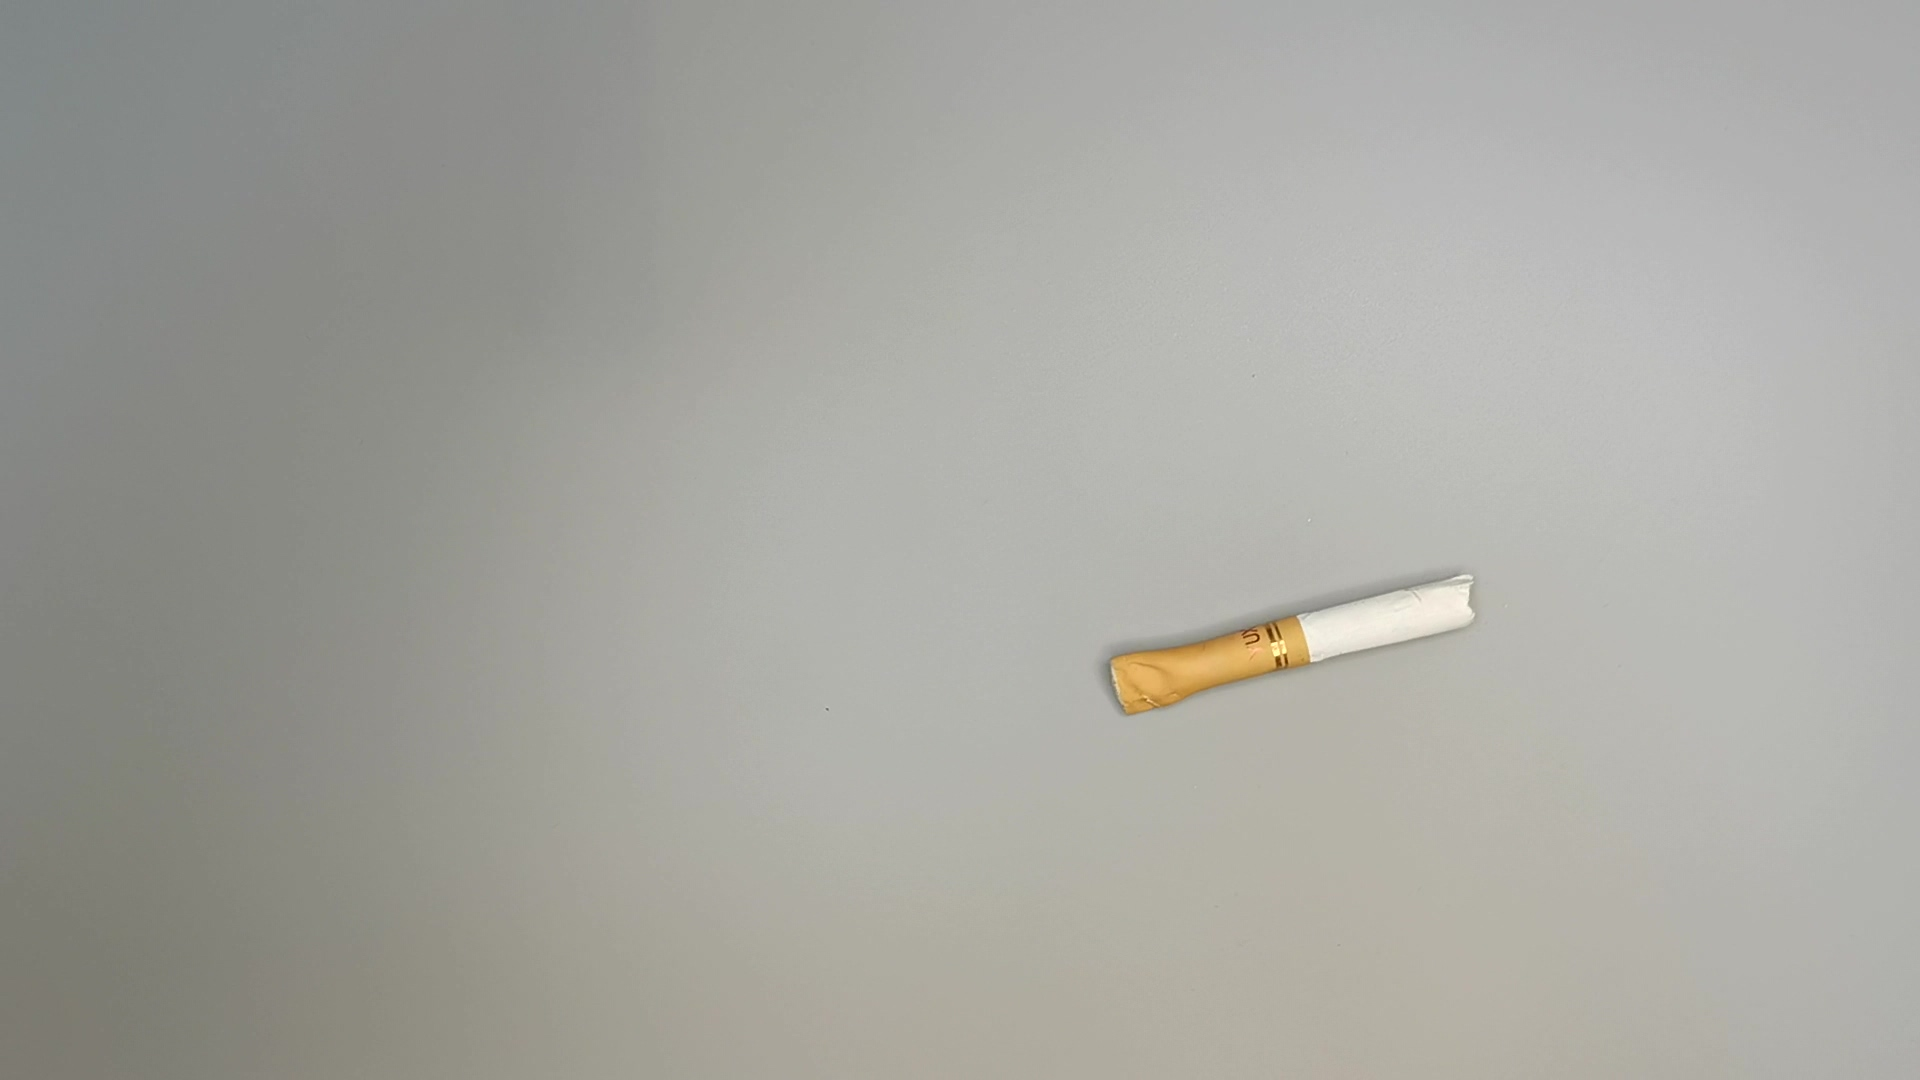cigarette: (1095, 563, 1489, 735)
